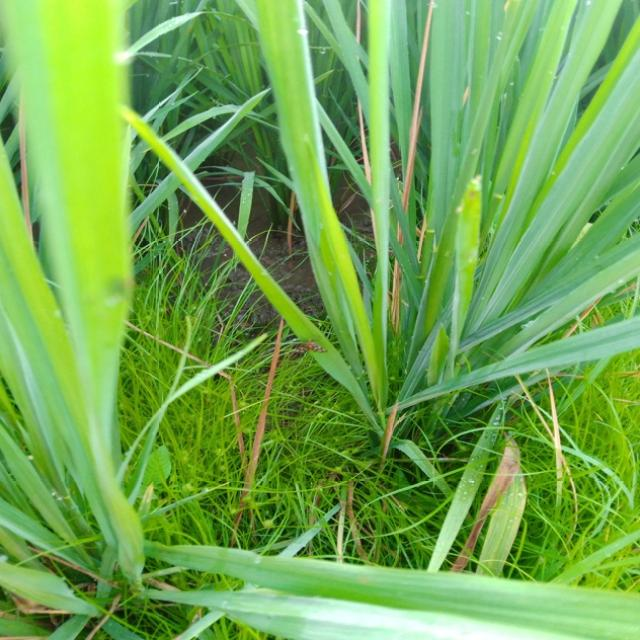Hawar Daun Bakteri: (378, 0, 438, 329)
